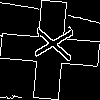X: (25, 25, 73, 62)
